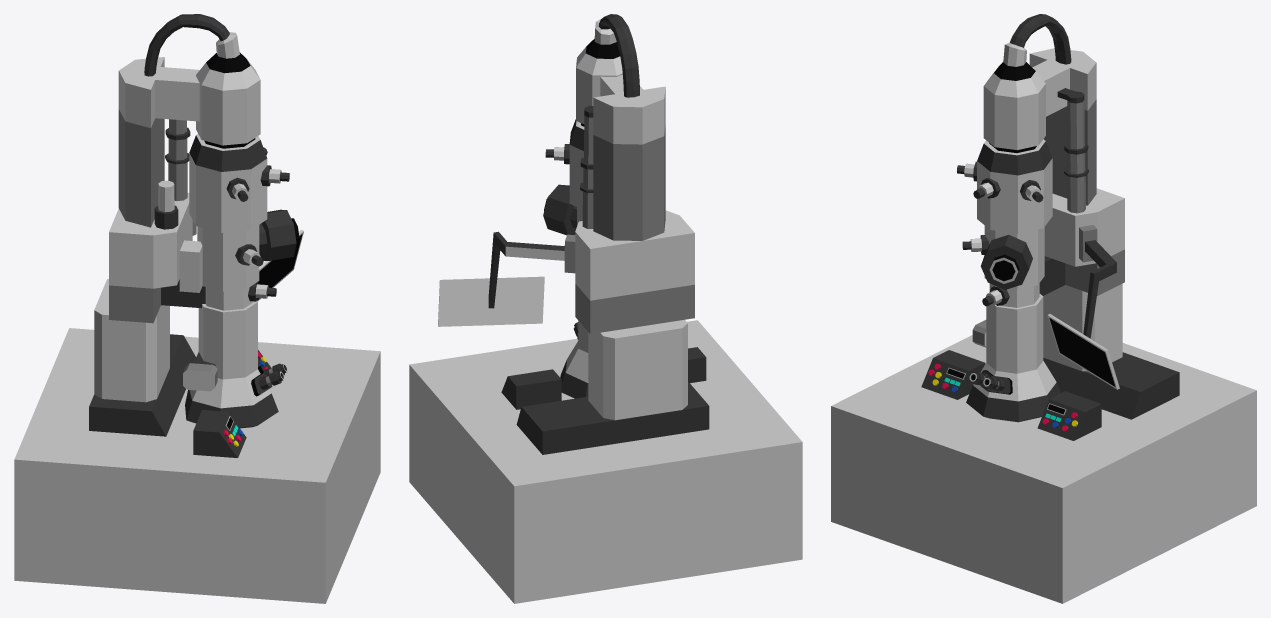
Rendered from MicroscopioEletronico.gltf.
3 renders of one model, left to right at view 1: azimuth 30°, elevation 25°; view 2: azimuth 150°, elevation 25°; view 3: azimuth 270°, elevation 25°, orthographic. The views are drawn at different scales.
Parts seen in each view (by area): view 1: MicroscopioEletronico; view 2: MicroscopioEletronico; view 3: MicroscopioEletronico.
Part boxes in pixels (box(x1,y1,x2,y2)): MicroscopioEletronico: box(14, 14, 380, 603); MicroscopioEletronico: box(409, 14, 802, 603); MicroscopioEletronico: box(831, 14, 1256, 603).
Size of the model in its own units: 2.82 by 3.6 by 2.82.
1 material, 1 textured.
